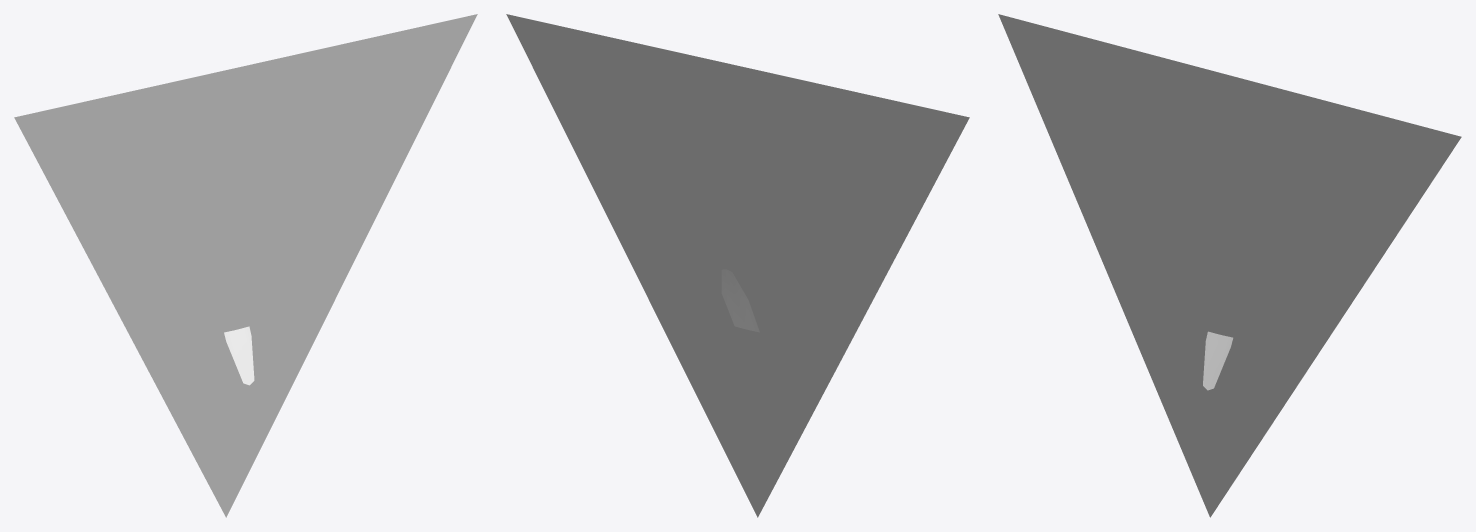
File: pinger_mouthGun.dae
3 renders of one model, left to right at view 1: azimuth 30°, elevation 25°; view 2: azimuth 150°, elevation 25°; view 3: azimuth 330°, elevation 25°, orthographic.
Parts seen in each view (by area): view 1: pinger_mouthGun; view 2: pinger_mouthGun; view 3: pinger_mouthGun.
Boxes of the visible parts, left/top/right/bottom form: pinger_mouthGun: left=14, top=14, right=477, bottom=517; pinger_mouthGun: left=506, top=14, right=969, bottom=517; pinger_mouthGun: left=998, top=14, right=1461, bottom=517.
Size of the model in its own units: 1.69 by 0.2145 by 1.57.
2 materials, 1 textured.
